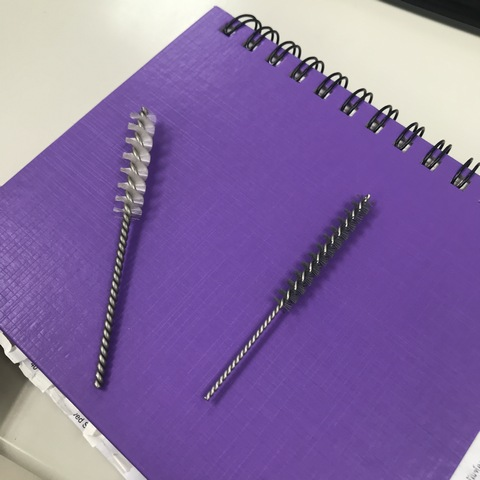Twist Brush-A: (197, 196, 379, 402)
Twist Brush-B: (92, 110, 172, 389)
